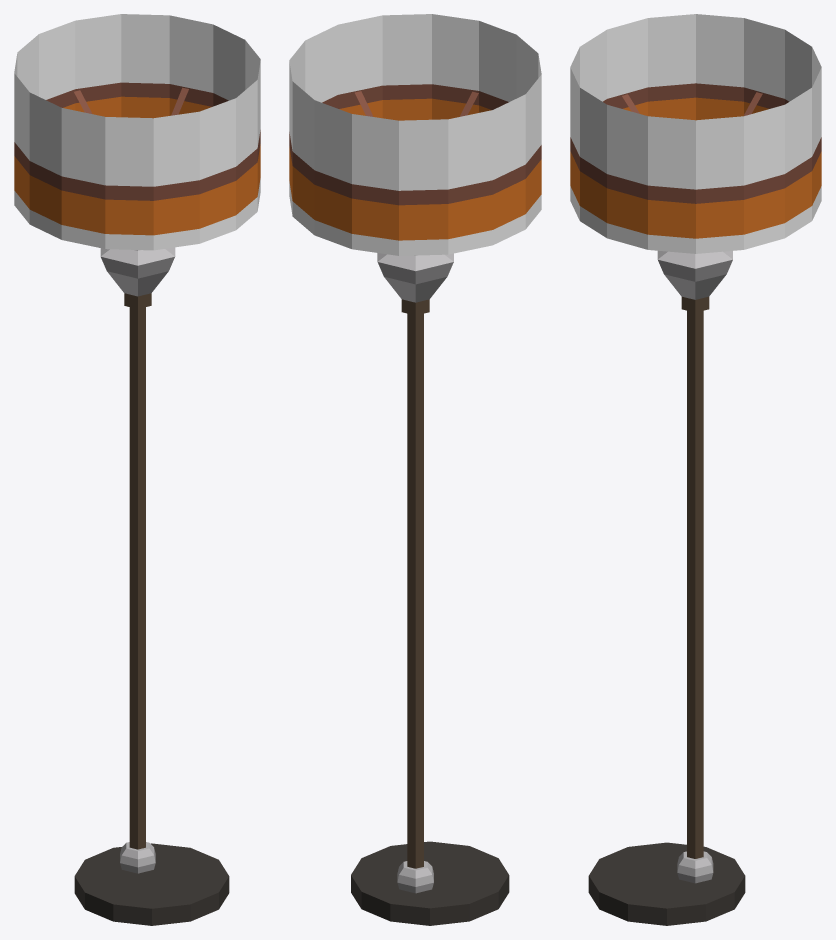
The model's file is SM_Lamp_03.glb.
3 views of the same model, side by side, from view 1: azimuth 30°, elevation 25°; view 2: azimuth 150°, elevation 25°; view 3: azimuth 270°, elevation 25° (orthographic). The views are drawn at different scales.
Parts seen in each view (by area): view 1: SM_Lamp_03; view 2: SM_Lamp_03; view 3: SM_Lamp_03.
Boxes of the visible parts, box(x1,y1,x2,y2) form: SM_Lamp_03: box(14, 14, 260, 925); SM_Lamp_03: box(289, 14, 541, 925); SM_Lamp_03: box(570, 14, 821, 925).
Size of the model in its own units: 0.5624 by 2.04 by 0.5624.
1 material, 1 textured.
